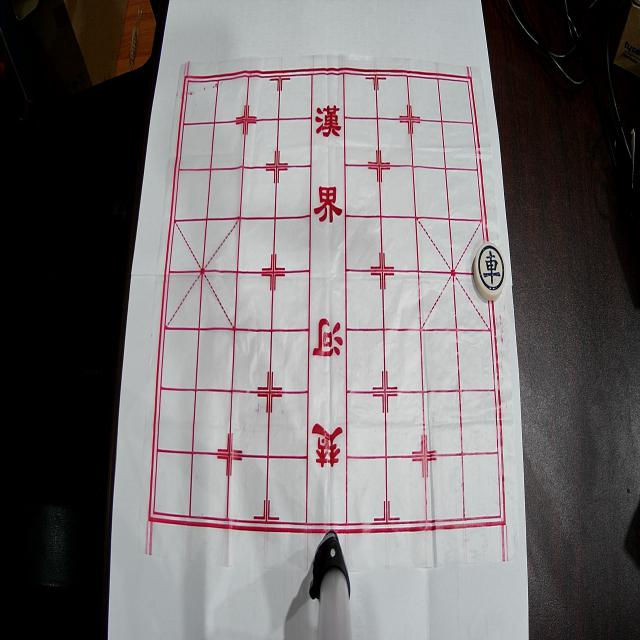black-chariot: (474, 242, 506, 300)
